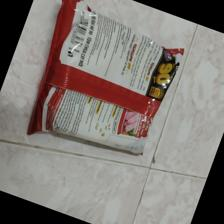Kokomi: (27, 1, 185, 156)
